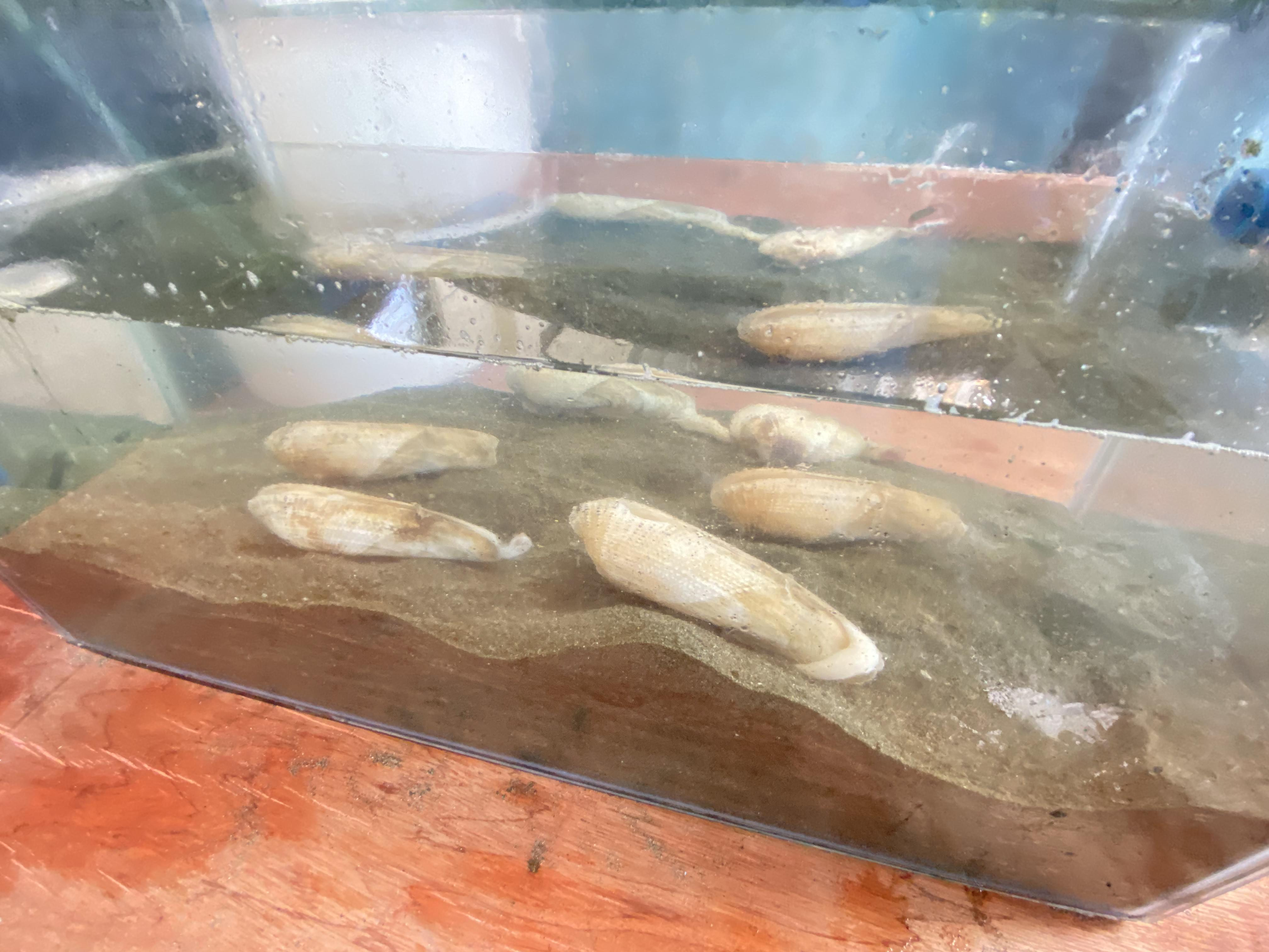At risk: (567, 497, 884, 683), (507, 366, 858, 462), (247, 483, 533, 563), (248, 483, 532, 562), (710, 466, 966, 544), (262, 419, 499, 483)
